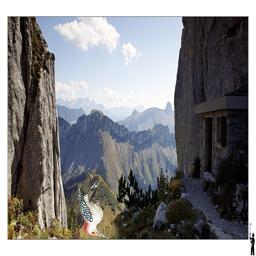Woodpecker: (79, 179, 108, 237)
